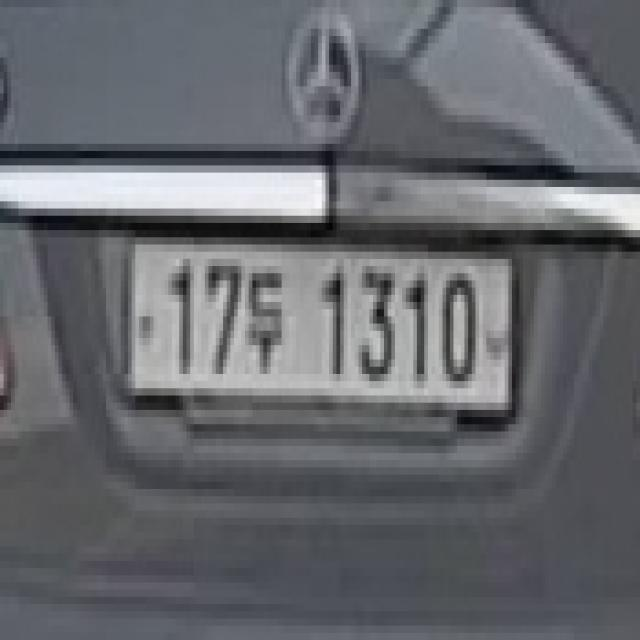0: (439, 259, 483, 395)
1: (161, 244, 197, 388), (399, 259, 435, 395), (311, 259, 347, 388)
3: (354, 266, 398, 388)
7: (201, 245, 245, 381)
du: (242, 252, 286, 388)
license_plate: (113, 223, 527, 446)
